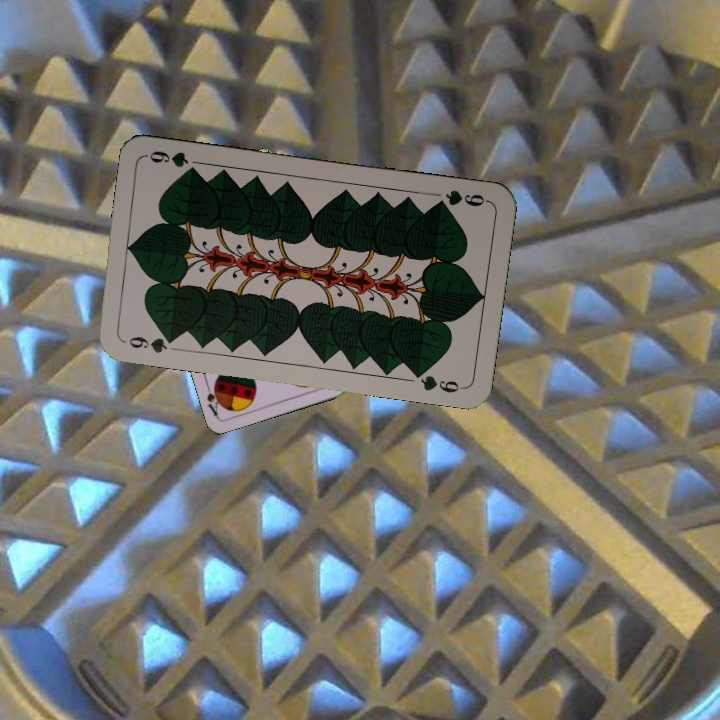G9: (431, 185, 491, 210), (119, 332, 179, 356)
